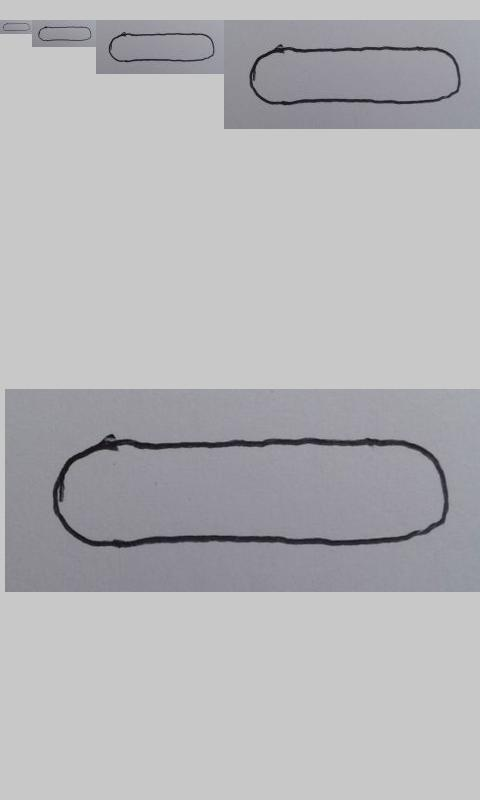chip: (53, 436, 450, 550), (249, 45, 462, 106), (109, 32, 215, 63), (38, 26, 92, 42), (2, 22, 31, 32)
